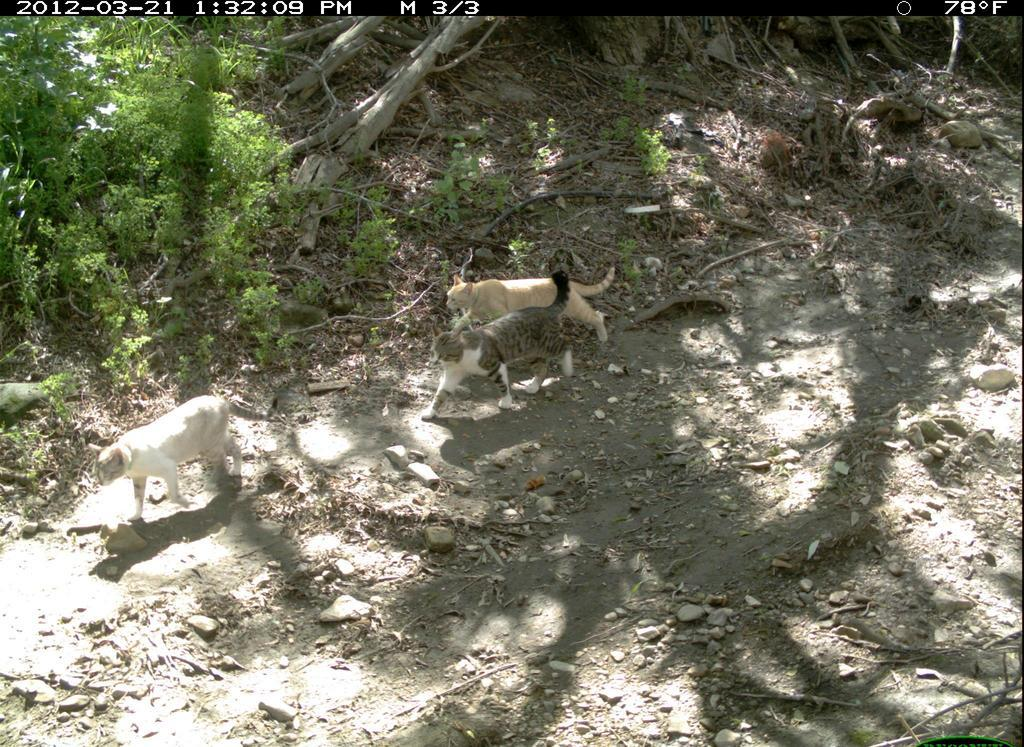cat: (402, 268, 593, 432), (88, 377, 250, 528), (438, 260, 619, 358)
